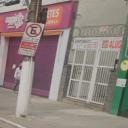NoEstacionar: (24, 21, 44, 39)
